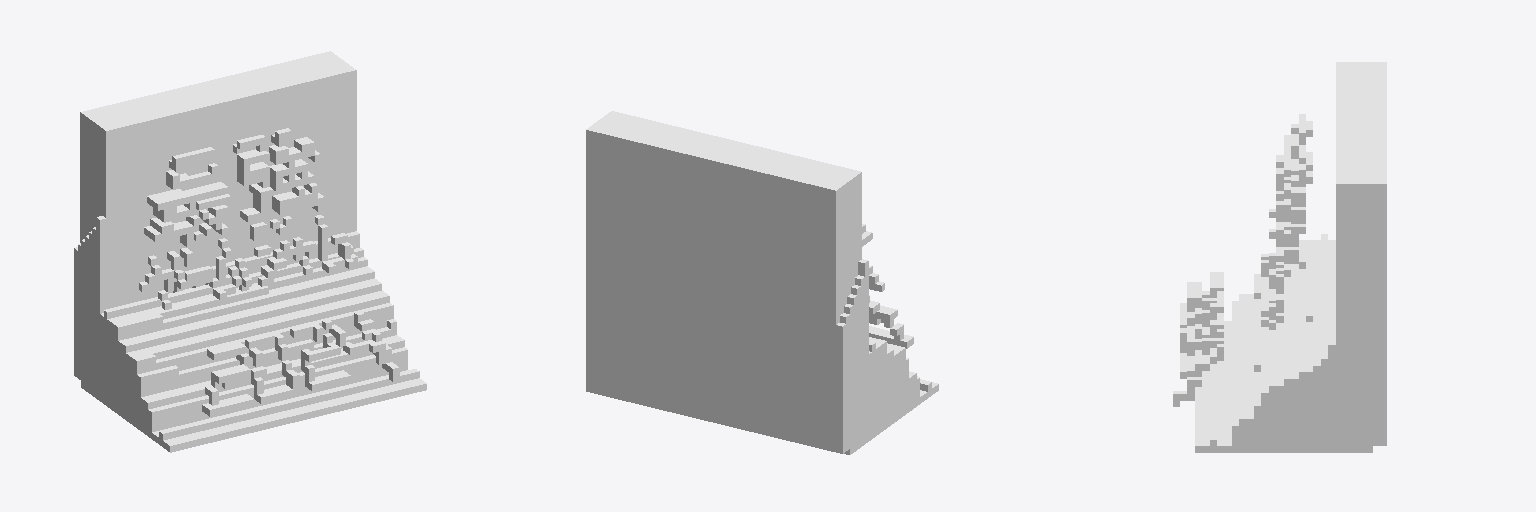
File: saikyogamejam.obj
The picture shows the model from 3 angles: view 1: azimuth 30°, elevation 25°; view 2: azimuth 150°, elevation 25°; view 3: azimuth 270°, elevation 25°; orthographic projection.
Parts seen in each view (by area): view 1: object 1; view 2: object 1; view 3: object 1.
Part boxes in pixels (bbox=[...]): object 1: bbox=[74, 51, 426, 452]; object 1: bbox=[586, 111, 938, 454]; object 1: bbox=[1173, 62, 1386, 452].
Bounding box in the file's own units: 4 × 4 × 2.9.